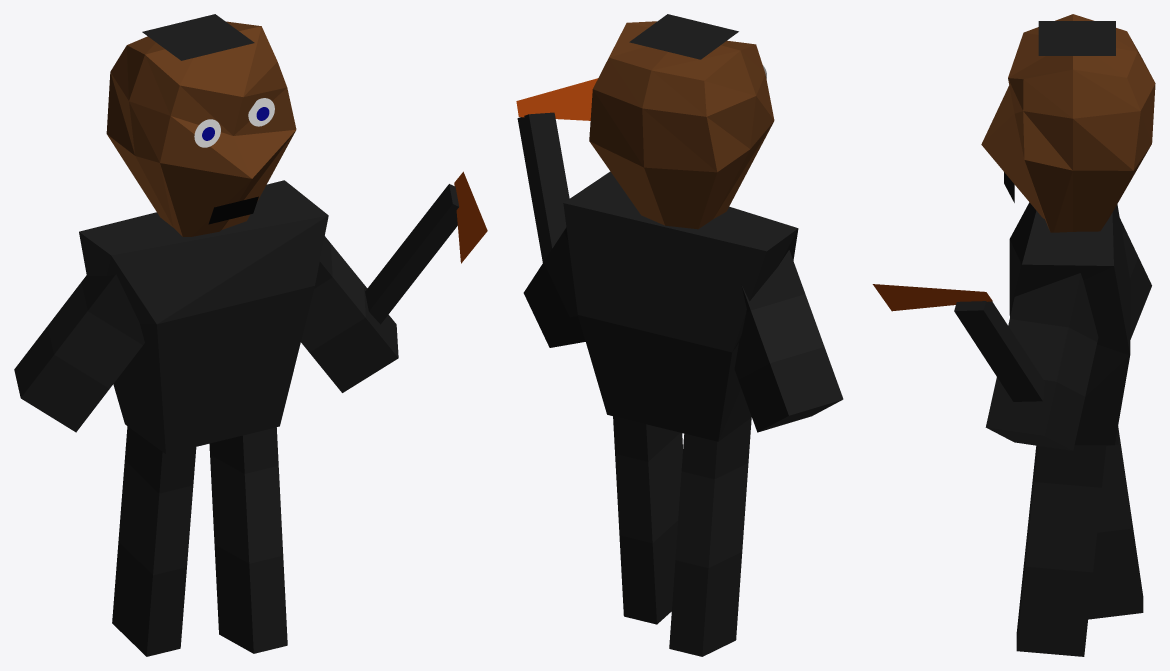
File: axeman3f.obj
3 views of the same model, side by side, from view 1: azimuth 30°, elevation 25°; view 2: azimuth 150°, elevation 25°; view 3: azimuth 270°, elevation 25° (orthographic). The views are drawn at different scales.
Parts seen in each view (by area): view 1: Cube.001, Cube, Cube.005, Cube.004, Cube.003, Cube.002, Cube.007, Plane.002, Plane.001, Plane; view 2: Cube.001, Cube, Cube.004, Cube.003, Cube.005, Cube.007, Cube.002, Plane.002, Plane.001; view 3: Cube, Cube.005, Cube.001, Cube.002, Cube.004, Cube.007, Plane.002, Plane.001, Cube.003.
Boxes of the visible parts, bbox=[...] form: Cube.001: bbox=[79, 180, 328, 453]; Cube: bbox=[106, 21, 296, 236]; Cube.005: bbox=[209, 427, 287, 653]; Cube.004: bbox=[112, 426, 196, 656]; Cube.003: bbox=[14, 274, 144, 432]; Cube.002: bbox=[301, 236, 398, 392]; Cube.007: bbox=[365, 184, 459, 324]; Plane.002: bbox=[142, 14, 254, 60]; Plane.001: bbox=[454, 171, 487, 263]; Plane: bbox=[208, 196, 258, 224]; Cube.001: bbox=[563, 171, 798, 441]; Cube: bbox=[589, 21, 774, 229]; Cube.004: bbox=[669, 418, 751, 656]; Cube.003: bbox=[734, 250, 843, 432]; Cube.005: bbox=[613, 416, 682, 624]; Cube.007: bbox=[517, 112, 569, 262]; Cube.002: bbox=[523, 227, 585, 347]; Plane.002: bbox=[629, 14, 738, 59]; Plane.001: bbox=[516, 78, 598, 120]; Cube: bbox=[981, 14, 1155, 232]; Cube.005: bbox=[1016, 445, 1106, 656]; Cube.001: bbox=[1009, 202, 1130, 445]; Cube.002: bbox=[985, 273, 1098, 450]; Cube.004: bbox=[1088, 426, 1143, 619]; Cube.007: bbox=[954, 301, 1044, 401]; Plane.002: bbox=[1038, 21, 1115, 55]; Plane.001: bbox=[872, 284, 992, 311]; Cube.003: bbox=[1118, 215, 1151, 339].
Bounding box in the file's own units: 3.96 × 5.9 × 2.56.
